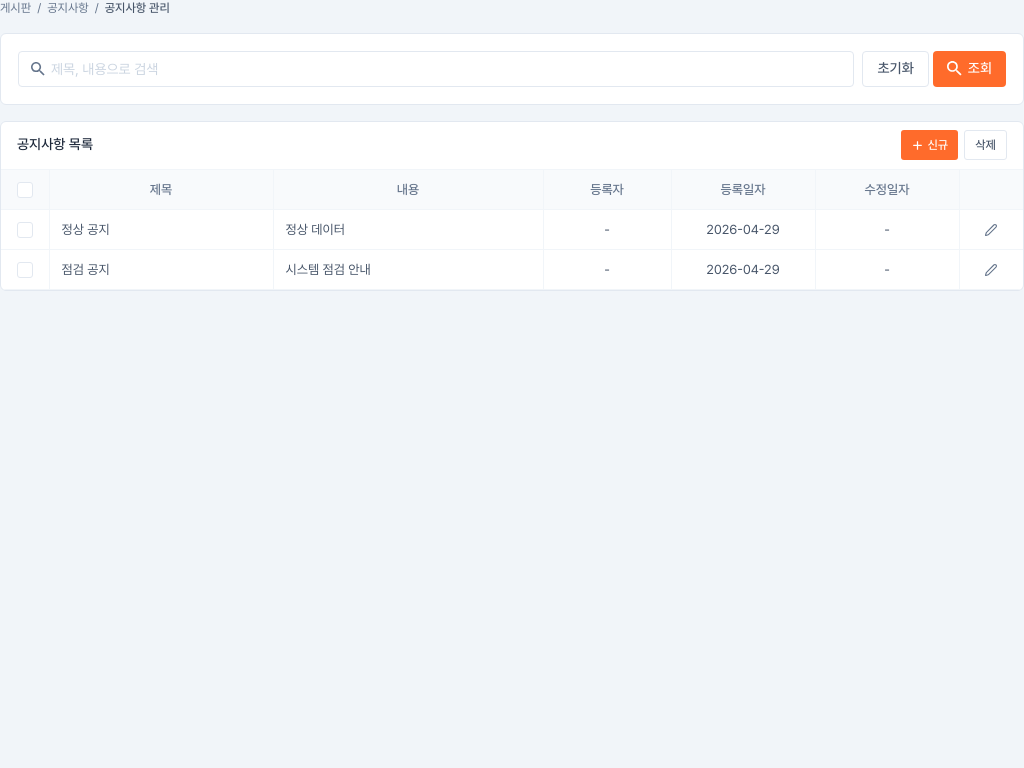
Scenario: NoticeManagePage › sends update API even when sysId is missing during QA
The image size is (1024, 768).
Expected: the text "정상 공지" is shown, [49, 210, 273, 250]
Step 1. Click the button named "점검 공지 수정" → (991, 270), box [976, 254, 1006, 284]
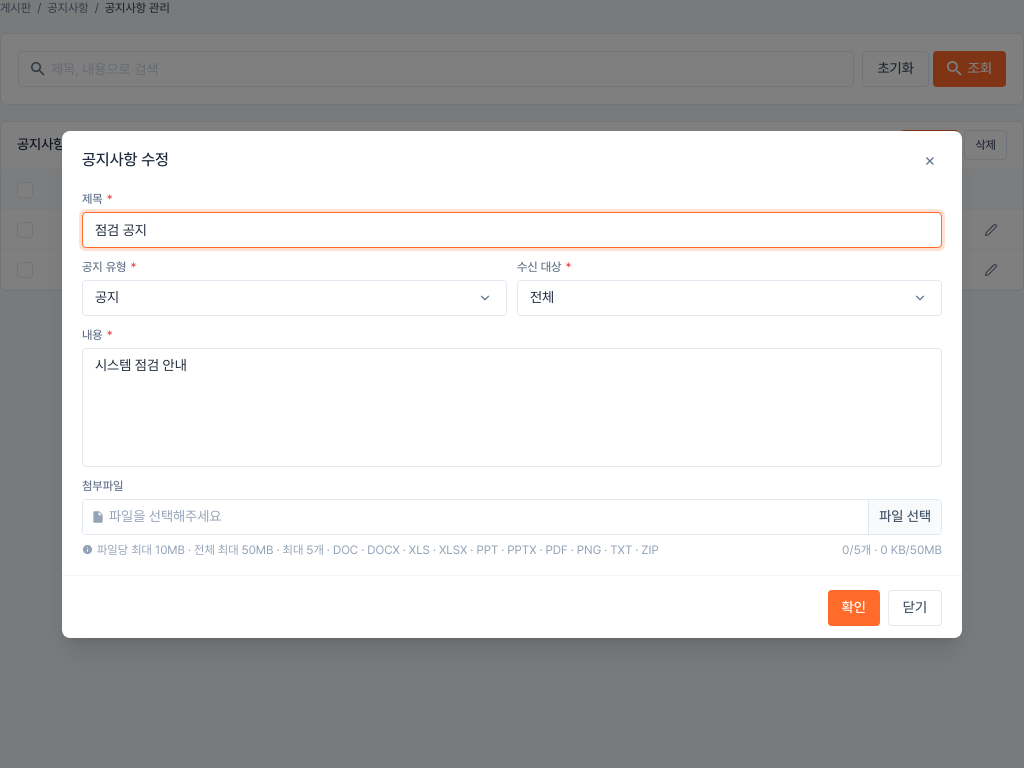
Result: the dialog "공지사항 수정" is shown at [62, 130, 962, 638]
Step 2. Type " 수정" into the field showing "점검 공지" → (512, 230), box [95, 212, 929, 246]
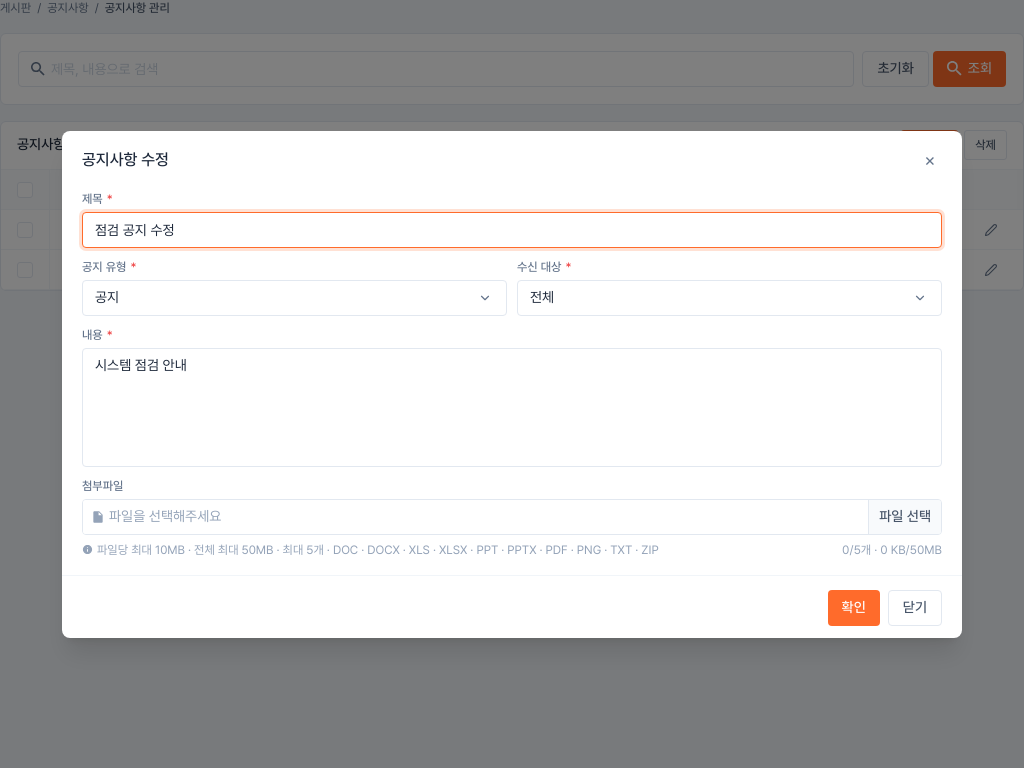
Step 3. Click the button "확인" → (854, 608), box [828, 590, 880, 626]
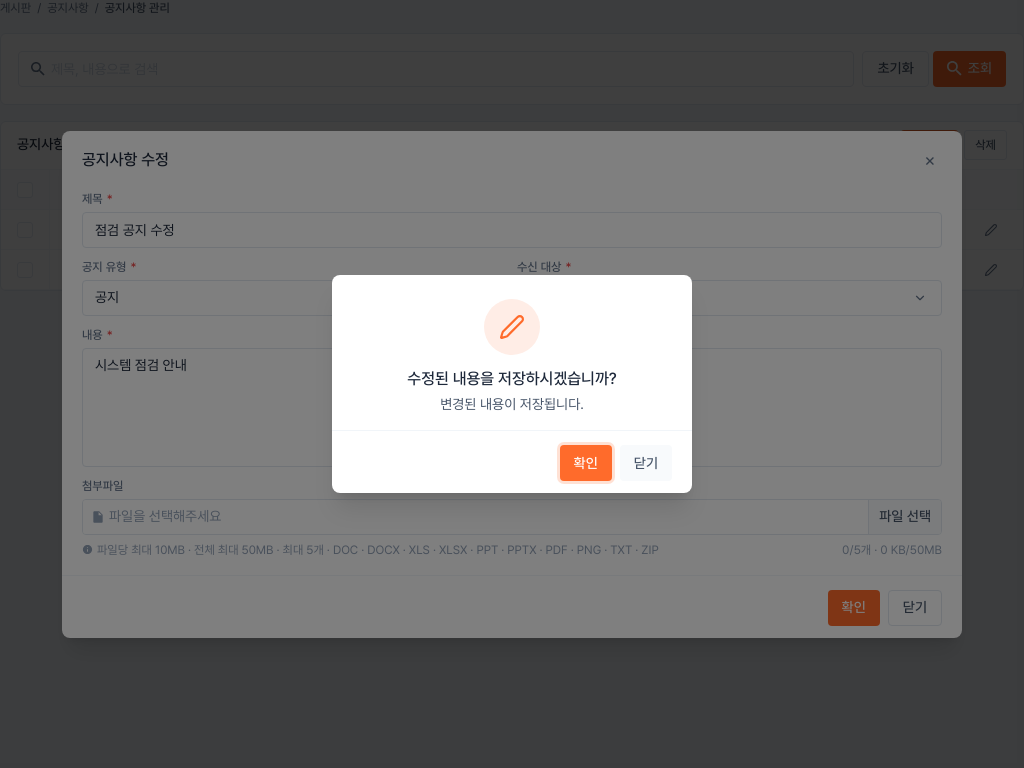
Step 4. Click the button "확인" → (586, 463), box [560, 445, 612, 481]
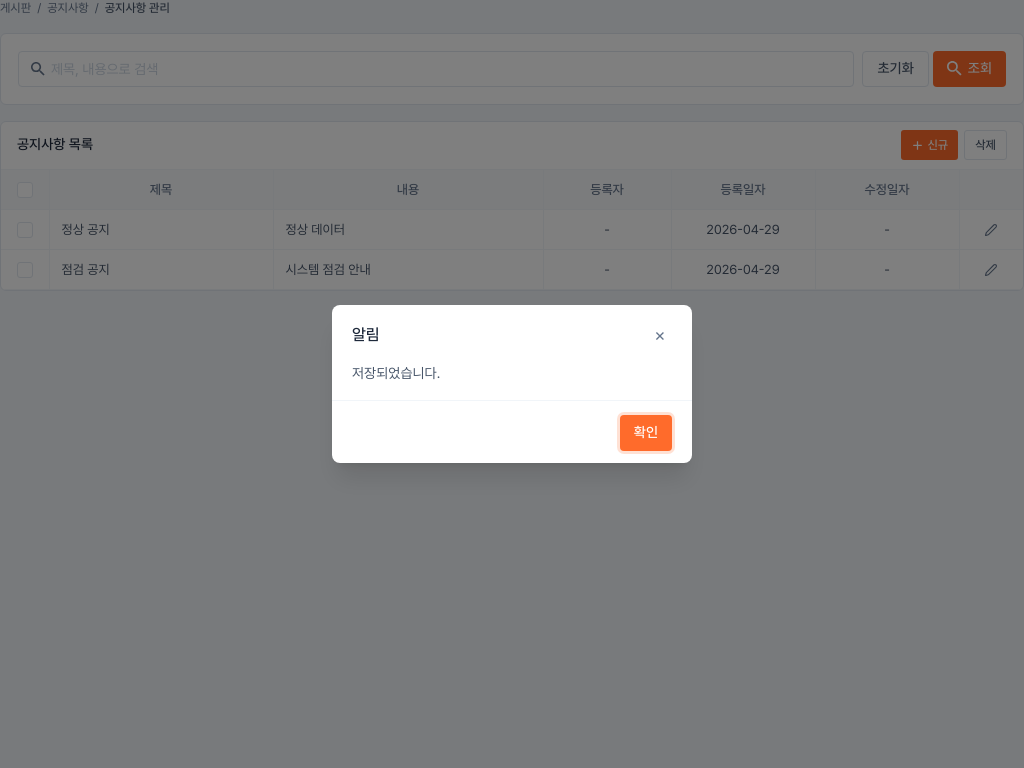
Result: the text "저장되었습니다." is shown at [352, 365, 440, 381]
